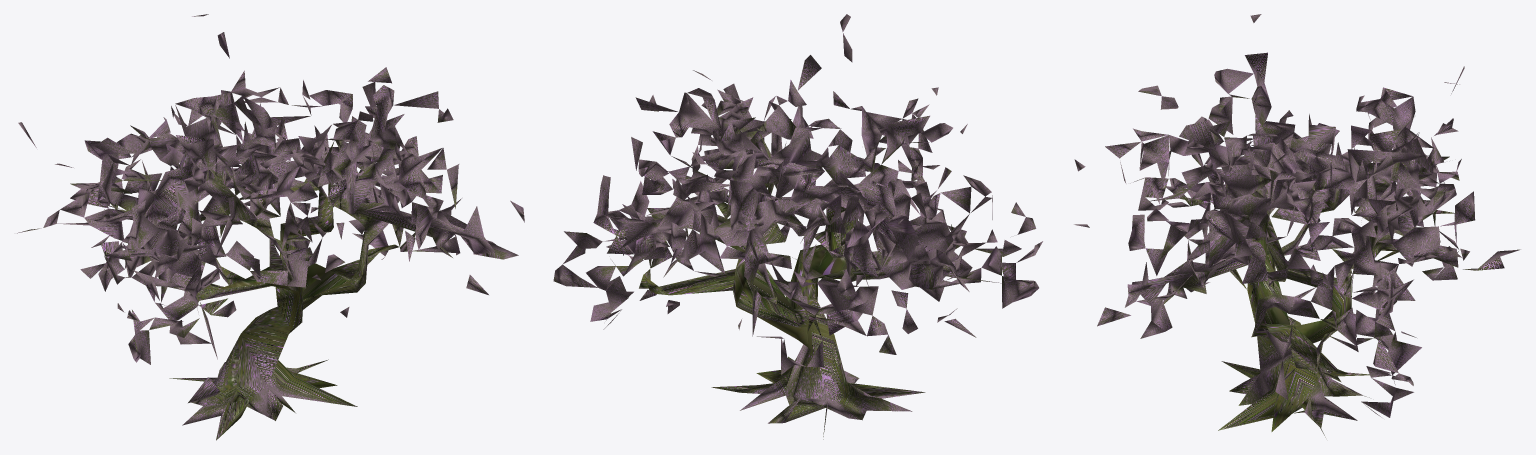
File: purple-bush.glb
The picture shows the model from 3 angles, left to right: view 1: azimuth 30°, elevation 25°; view 2: azimuth 150°, elevation 25°; view 3: azimuth 270°, elevation 25°; orthographic projection. The views are drawn at different scales.
Size of the model in its own units: 3.12 by 2.5 by 3.04.
1 material, 1 textured.
